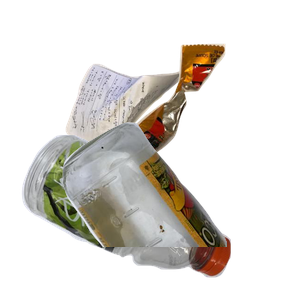glass: (60, 120, 300, 300)
paper: (63, 61, 242, 206)
plastic: (19, 132, 242, 300)
trash: (122, 41, 300, 190)
